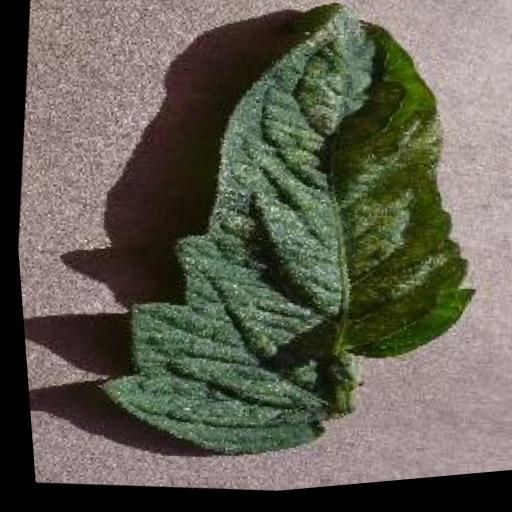Spider Mites: (71, 0, 512, 492)
